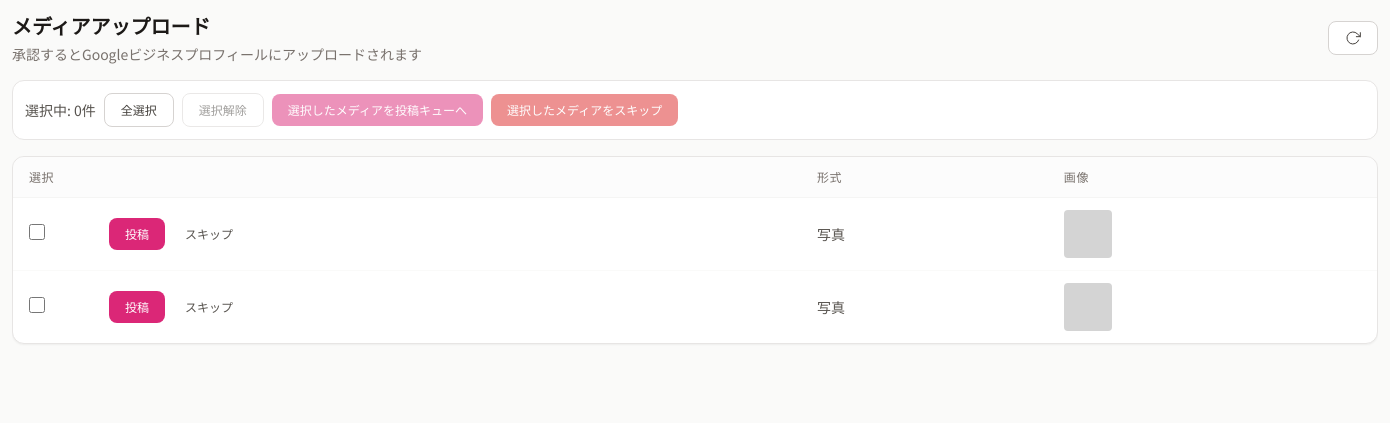
Test: MediaUploadsPage › continues and reports summary when partially failed
Click the checkbox named "メディアを選択 upload-1".
click(37, 232)  # box [29,224,45,240]
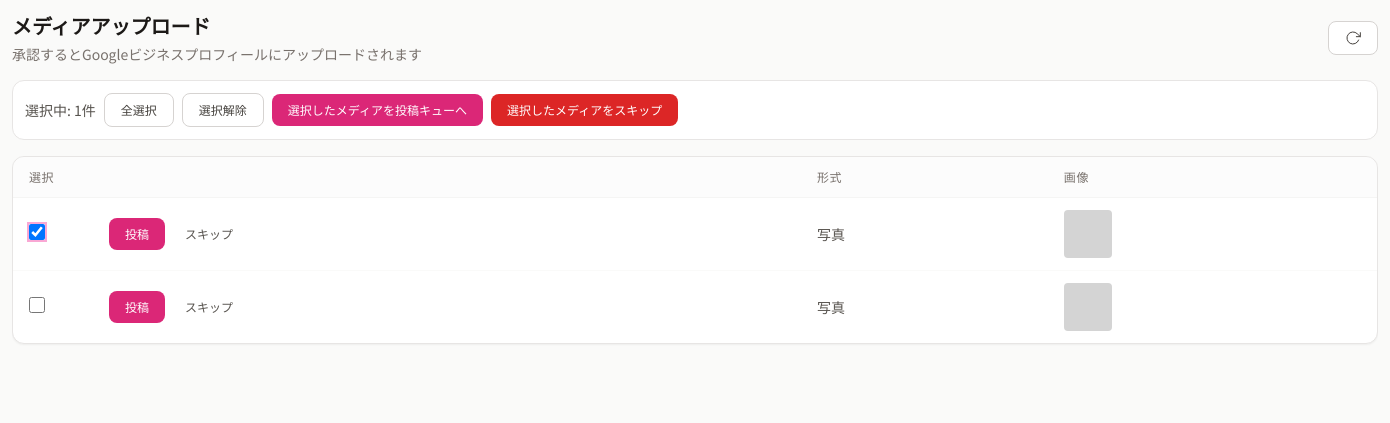
Click the checkbox named "メディアを選択 upload-2".
click(37, 305)  # box [29,297,45,313]
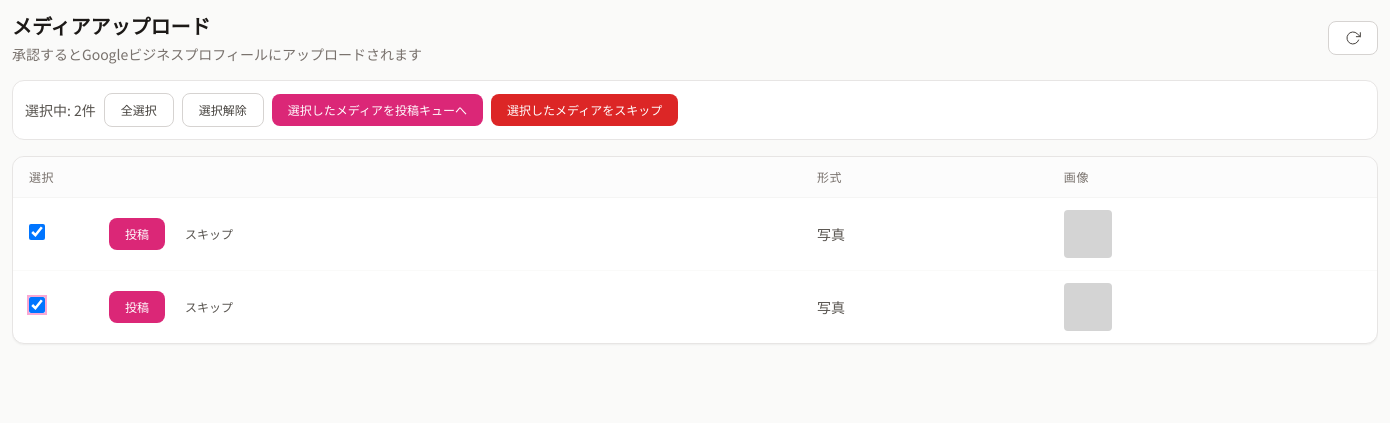
Click the button "選択したメディアをスキップ".
click(585, 110)  # box [491,94,678,126]
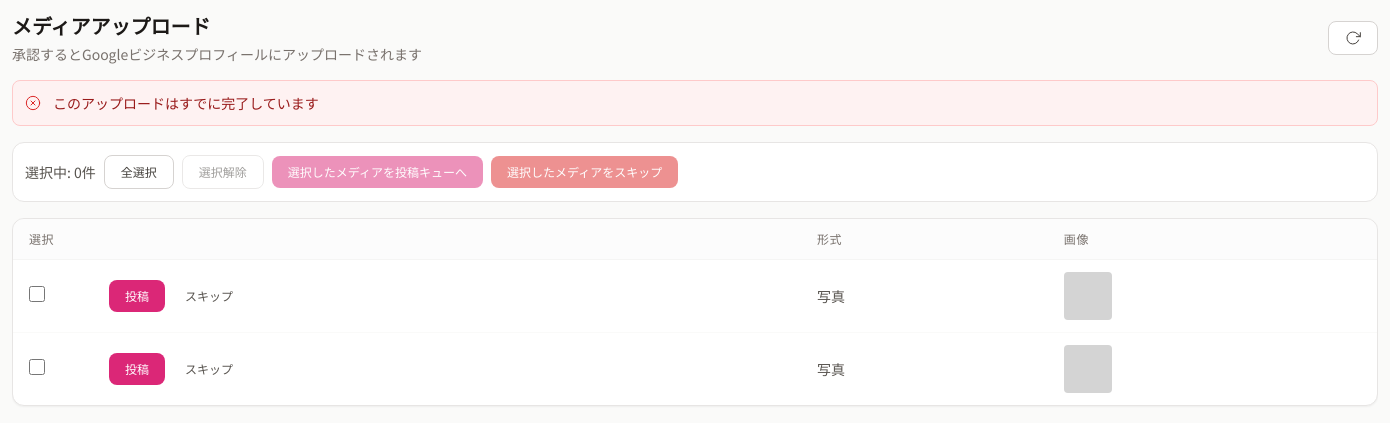
Result: the text "このアップロードはすでに完了しています" is shown at [53,93,319,113]
